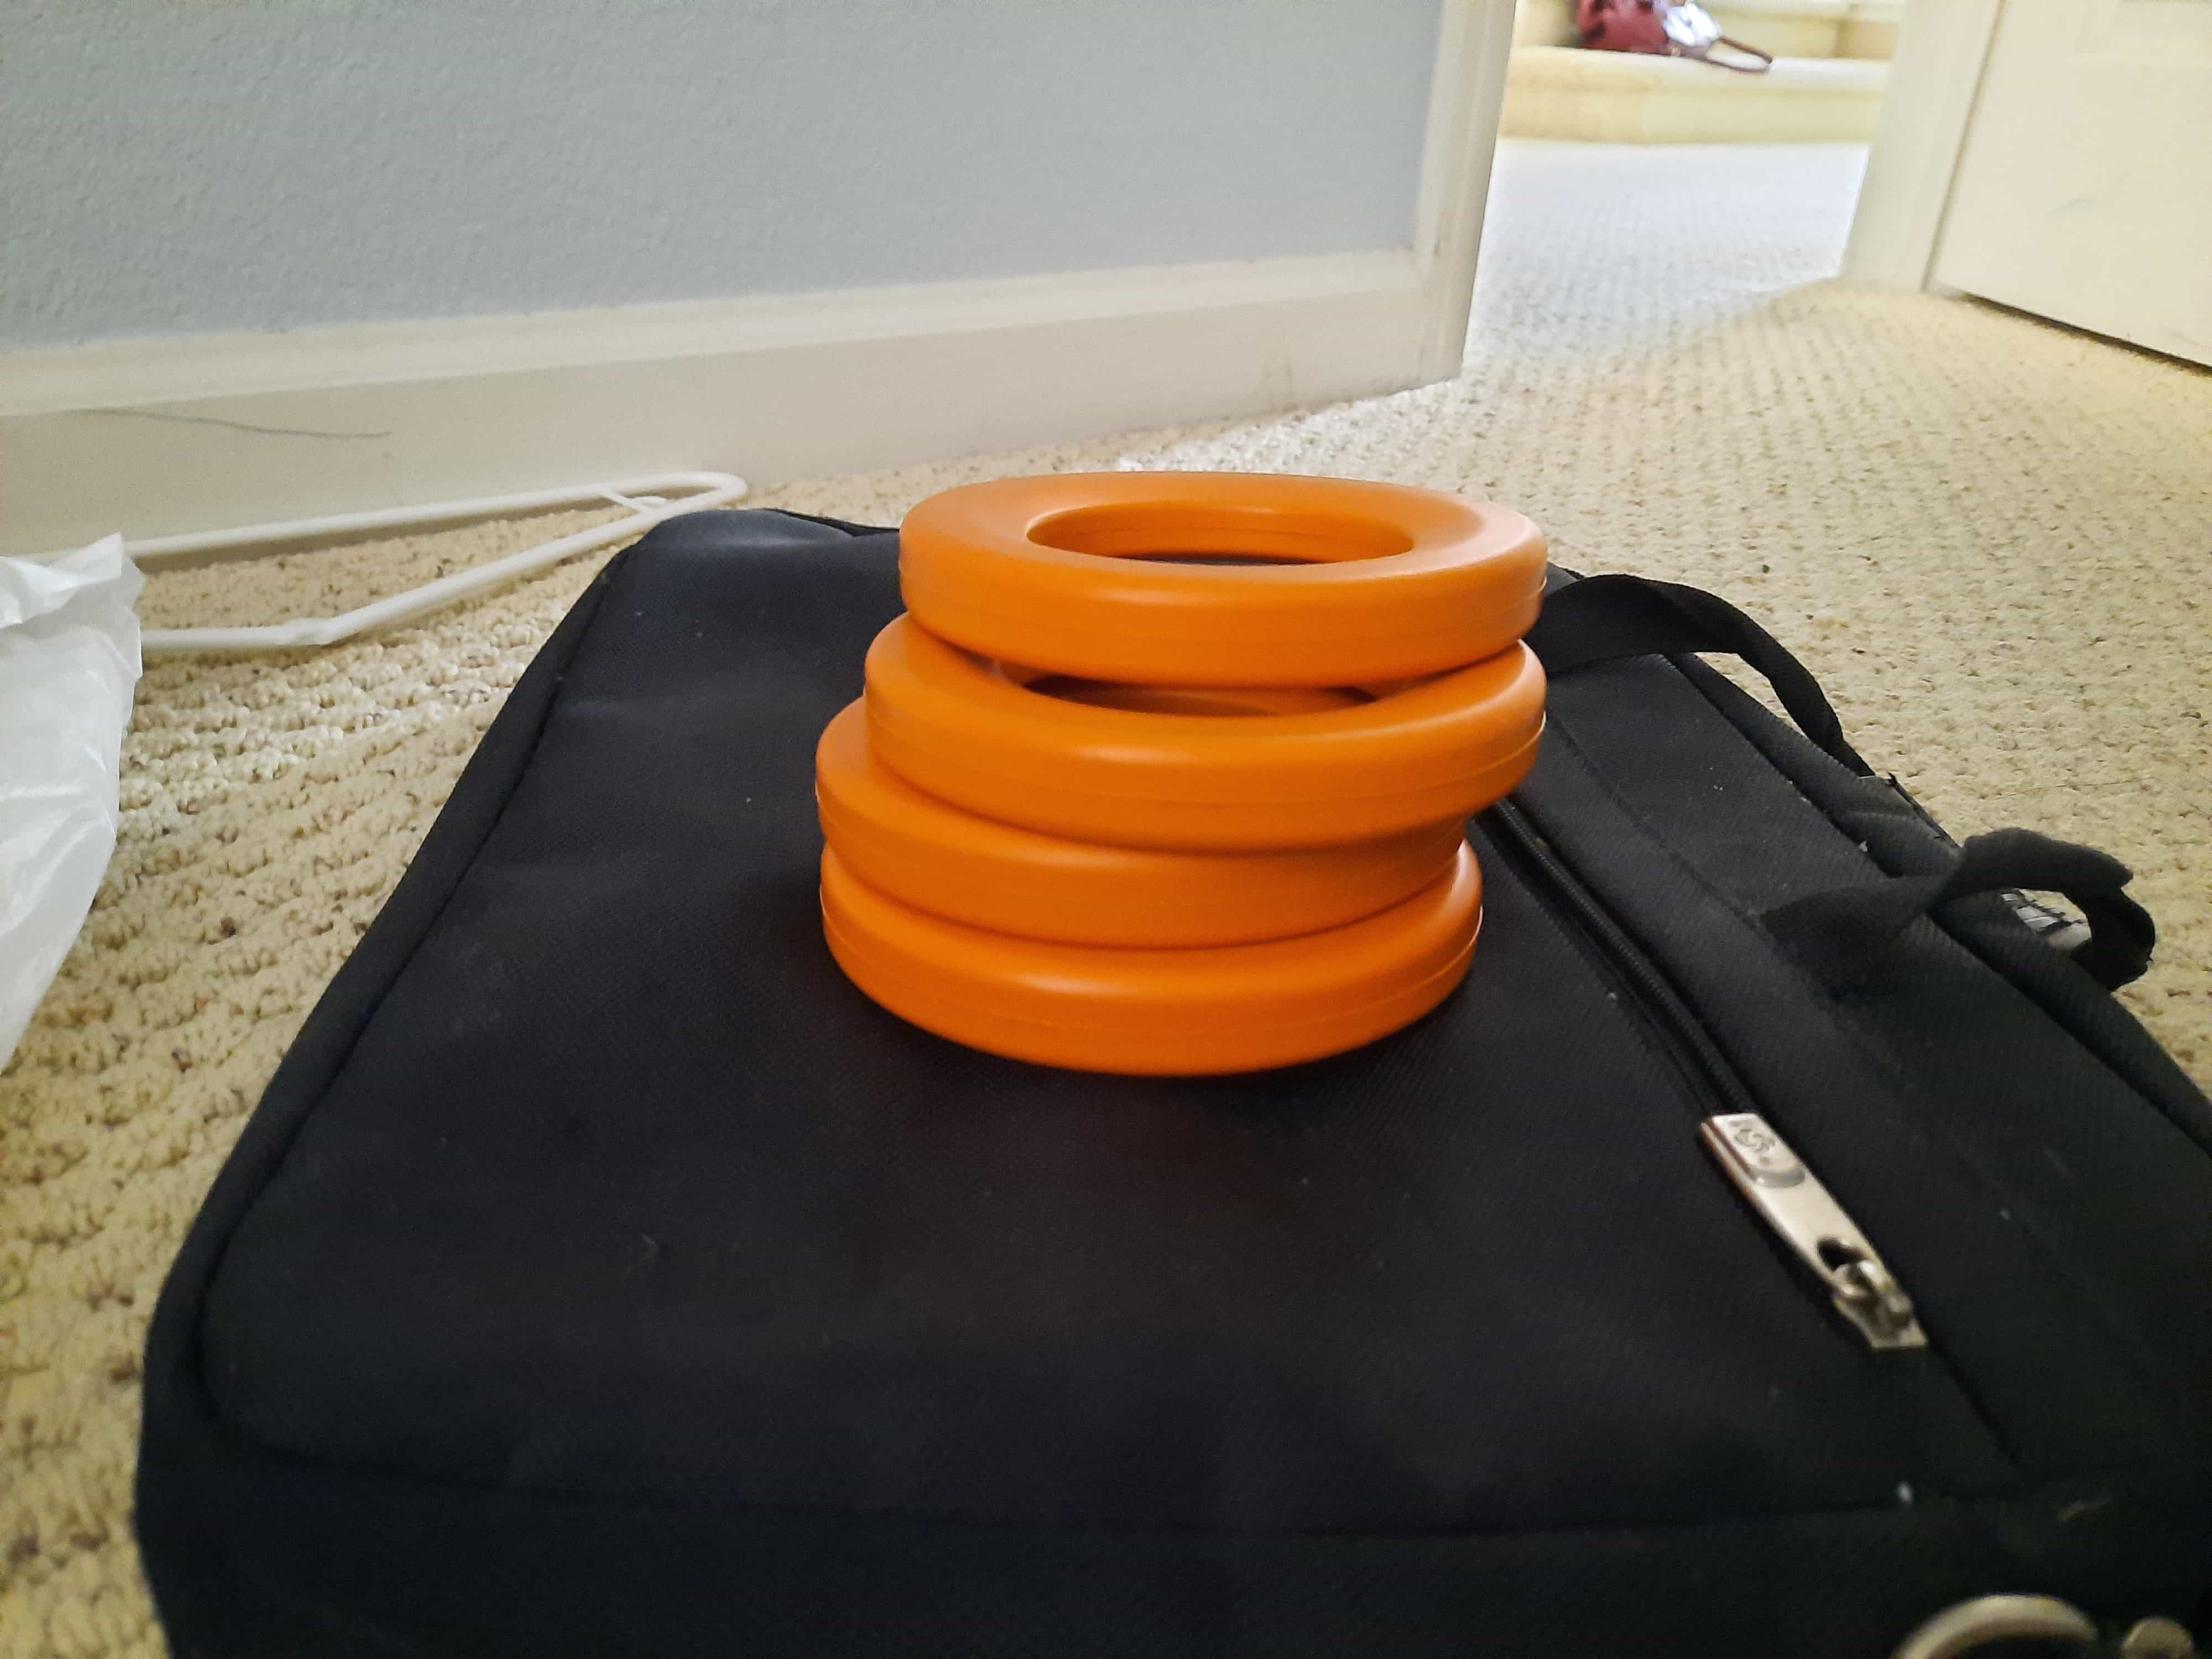FourStack: (820, 471, 1543, 1063)
